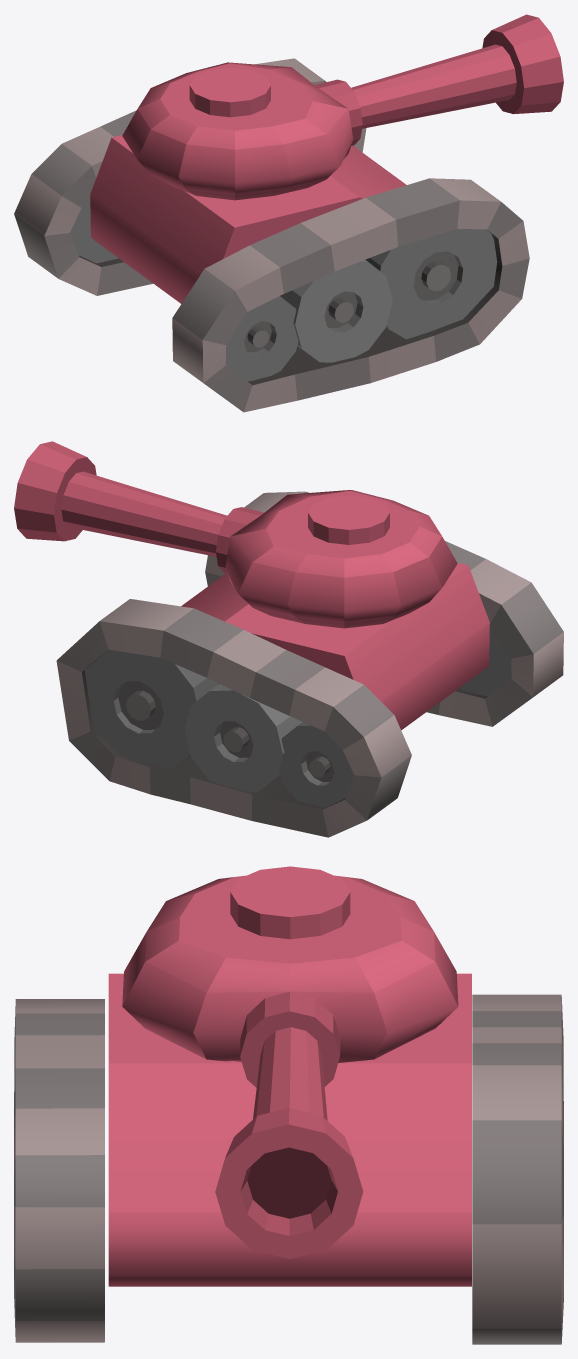
The model's file is tankshoot.fbx.
The picture shows the model from 3 angles, top to bottom: view 1: azimuth 30°, elevation 25°; view 2: azimuth 150°, elevation 25°; view 3: azimuth 270°, elevation 25°; orthographic projection. The views are drawn at different scales.
Visible parts, largest first — view 1: pPipe3, pCylinder2, pCube1, pCylinder1, pPipe4, pCylinder8, pCylinder10, pCylinder9, pCylinder4, pCylinder6, pCylinder3; view 2: pPipe4, pCylinder2, pCube1, pCylinder1, pPipe3, pCylinder5, pCylinder7, pCylinder6, pCylinder4, pCylinder9, pCylinder3; view 3: pCube1, pCylinder2, pPipe4, pPipe3, pCylinder1, pCylinder4, pCylinder3.
Part boxes in pixels (bbox=[...]): pPipe3: bbox=[172, 178, 529, 412]; pCylinder2: bbox=[122, 62, 353, 200]; pCube1: bbox=[90, 135, 406, 303]; pCylinder1: bbox=[351, 14, 563, 128]; pPipe4: bbox=[14, 58, 366, 295]; pCylinder8: bbox=[365, 228, 497, 339]; pCylinder10: bbox=[280, 260, 392, 362]; pCylinder9: bbox=[225, 296, 298, 381]; pCylinder4: bbox=[189, 68, 270, 117]; pCylinder6: bbox=[70, 199, 118, 263]; pCylinder3: bbox=[314, 79, 362, 145]; pPipe4: bbox=[56, 599, 411, 837]; pCylinder2: bbox=[225, 490, 457, 628]; pCube1: bbox=[181, 562, 489, 730]; pCylinder1: bbox=[14, 441, 226, 556]; pPipe3: bbox=[205, 491, 563, 726]; pCylinder5: bbox=[84, 649, 218, 769]; pCylinder7: bbox=[184, 684, 302, 792]; pCylinder6: bbox=[279, 722, 354, 807]; pCylinder4: bbox=[308, 495, 389, 544]; pCylinder9: bbox=[459, 625, 511, 695]; pCylinder3: bbox=[216, 507, 263, 573]; pCube1: bbox=[108, 973, 471, 1286]; pCylinder2: bbox=[122, 875, 458, 1062]; pPipe4: bbox=[472, 994, 563, 1344]; pPipe3: bbox=[14, 999, 104, 1342]; pCylinder1: bbox=[215, 1027, 363, 1258]; pCylinder4: bbox=[230, 866, 350, 939]; pCylinder3: bbox=[240, 991, 340, 1087].
Bounding box in the file's own units: 8.25 × 4.4 × 6.15.
